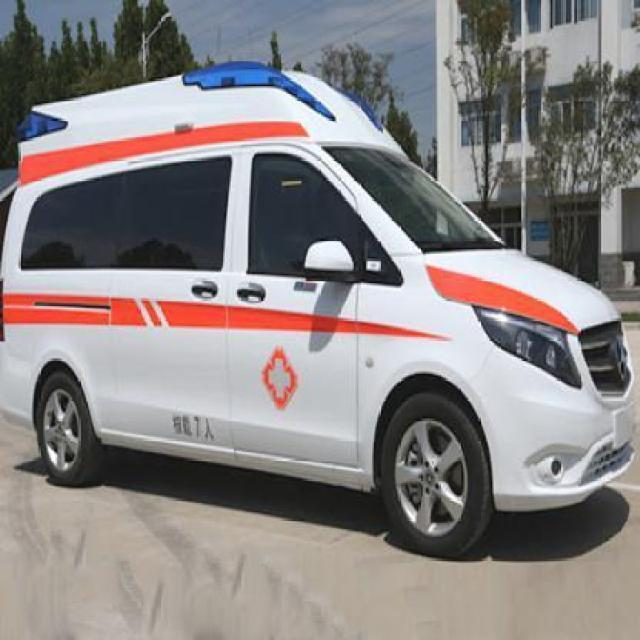emergency: (2, 61, 638, 561)
